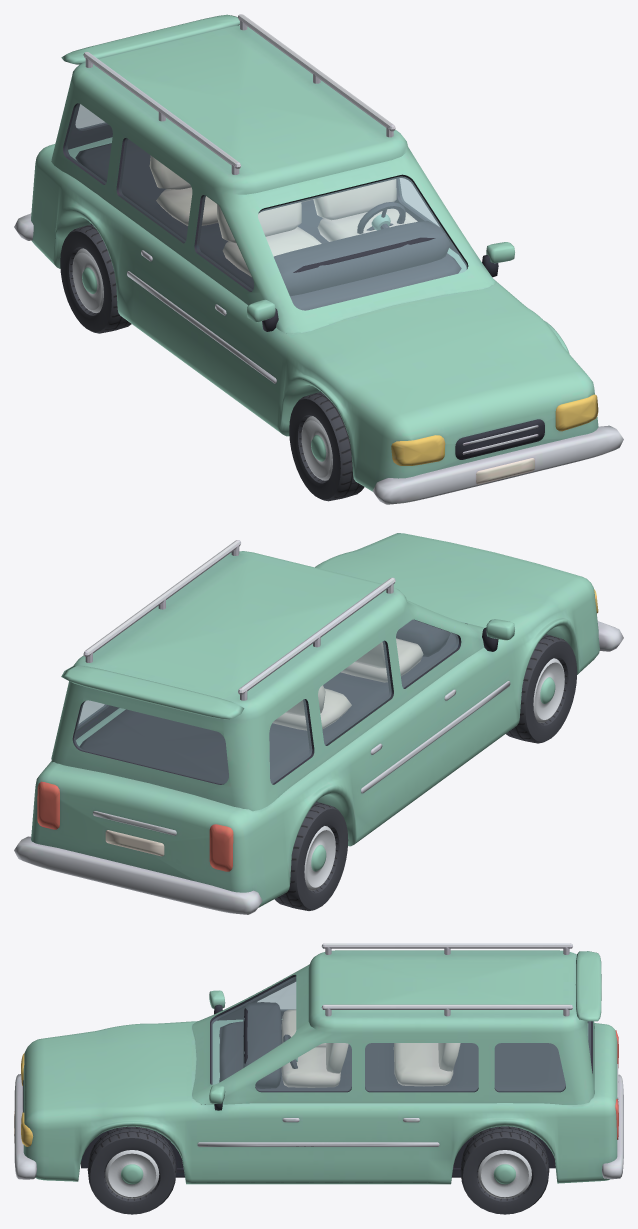
The model's file is station-wagon.glb.
3 views of the same model, one above another, from view 1: azimuth 30°, elevation 25°; view 2: azimuth 150°, elevation 25°; view 3: azimuth 270°, elevation 25° (orthographic). The views are drawn at different scales.
Parts seen in each view (by area): view 1: station-wagon_body, station-wagon_windows, station-wagon_wheel_fr, station-wagon_wheel_rr; view 2: station-wagon_body, station-wagon_windows, station-wagon_wheel_rr, station-wagon_wheel_fr; view 3: station-wagon_body, station-wagon_windows, station-wagon_wheel_rl, station-wagon_wheel_fl.
Part boxes in pixels (<box>): station-wagon_body: <box>14,14,623,504</box>; station-wagon_windows: <box>65,103,467,310</box>; station-wagon_wheel_fr: <box>289,392,364,501</box>; station-wagon_wheel_rr: <box>60,224,131,333</box>; station-wagon_body: <box>14,533,623,914</box>; station-wagon_windows: <box>74,620,458,783</box>; station-wagon_wheel_rr: <box>274,802,348,910</box>; station-wagon_wheel_fr: <box>506,634,577,743</box>; station-wagon_body: <box>14,943,623,1184</box>; station-wagon_windows: <box>211,977,590,1090</box>; station-wagon_wheel_rl: <box>460,1126,549,1214</box>; station-wagon_wheel_fl: <box>87,1126,176,1214</box>.
Size of the model in its own units: 1.9 by 1.65 by 4.66.
Materials: 18 (5 with a texture image).
